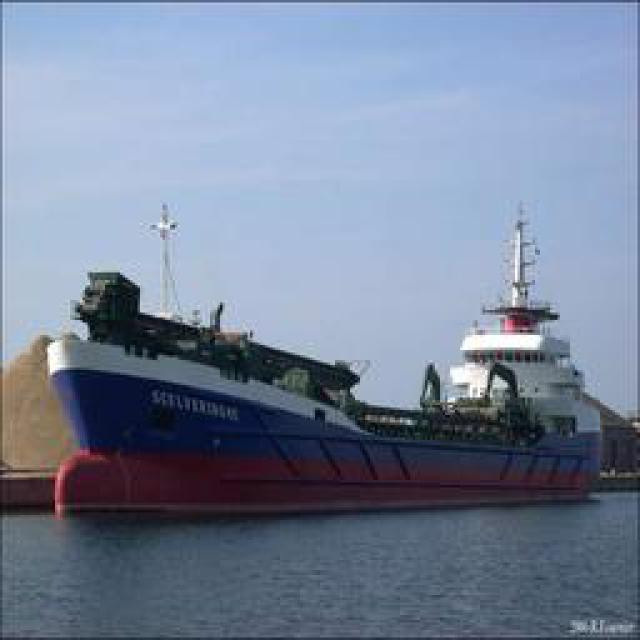Ship: (17, 323, 605, 521)
